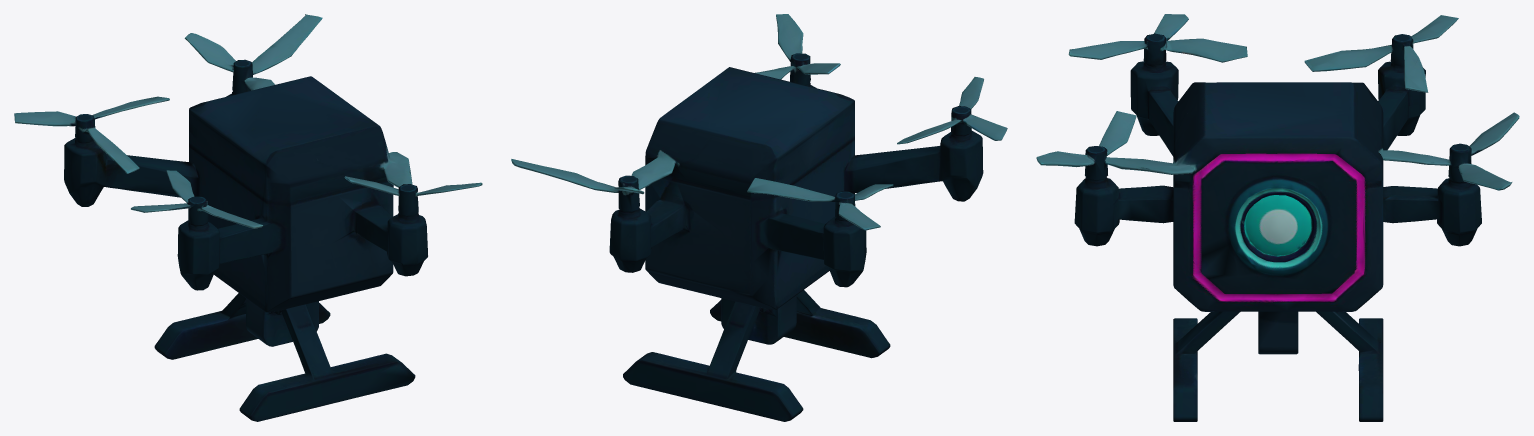
The model's file is DronPerseguidor.fbx.
3 views of the same model, side by side, from view 1: azimuth 30°, elevation 25°; view 2: azimuth 150°, elevation 25°; view 3: azimuth 270°, elevation 25° (orthographic). The views are drawn at different scales.
Visible parts, largest first — view 1: tripo_node_3bd1ce2e; view 2: tripo_node_3bd1ce2e; view 3: tripo_node_3bd1ce2e.
Part boxes in pixels (<box>): tripo_node_3bd1ce2e: <box>14,14,482,421</box>; tripo_node_3bd1ce2e: <box>511,14,1007,421</box>; tripo_node_3bd1ce2e: <box>1036,14,1519,421</box>.
Bounding box in the file's own units: 0.8757 × 0.6337 × 1.
1 material, 1 textured.
